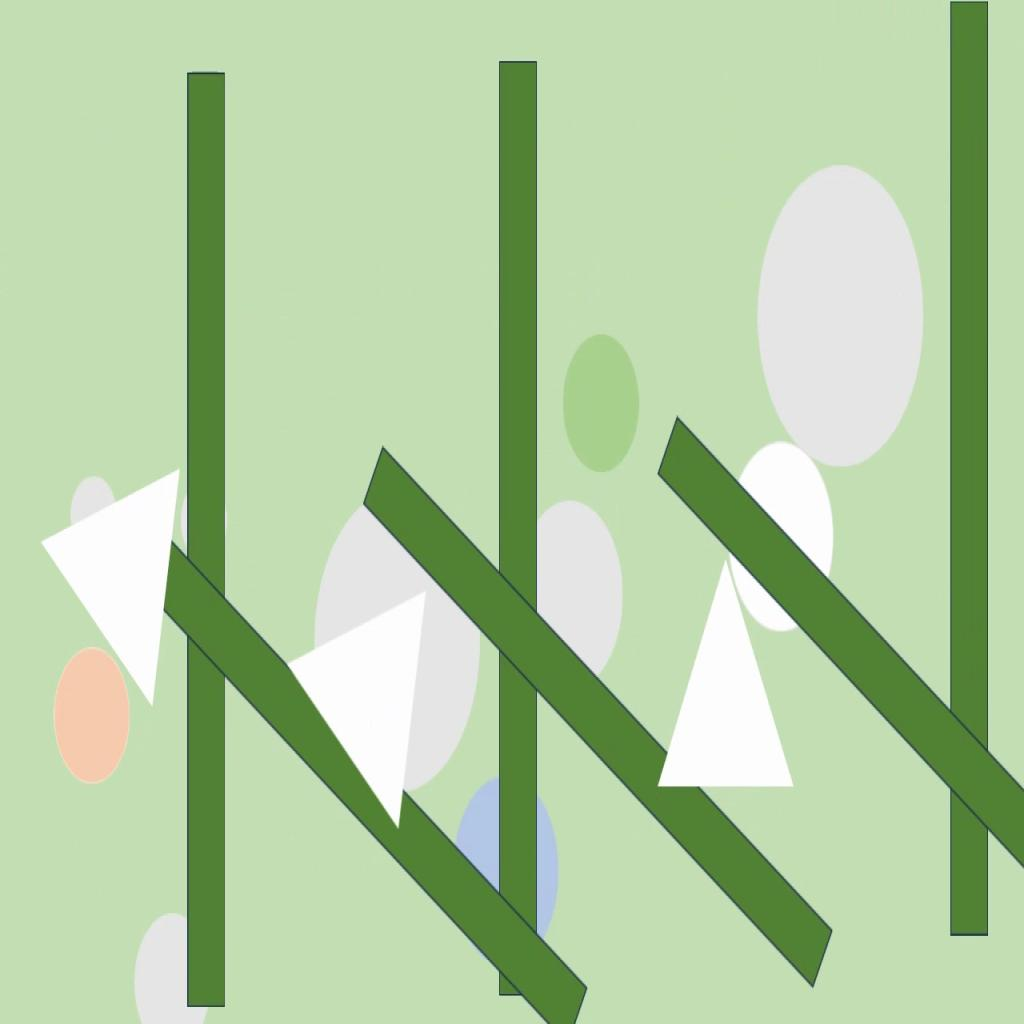Circle: (757, 167, 926, 468), (314, 498, 482, 791), (514, 500, 624, 684), (729, 441, 835, 629), (456, 777, 559, 951), (562, 334, 641, 473), (53, 643, 129, 785), (134, 910, 209, 1024), (71, 475, 116, 553)
